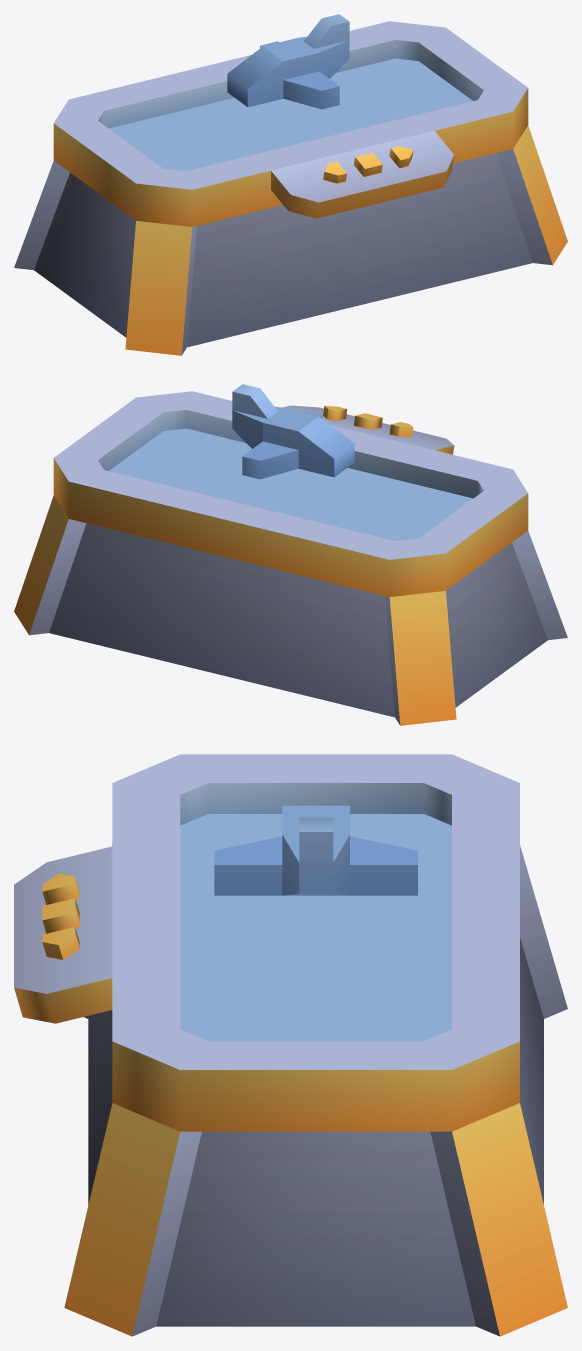
File: k-space-station-table-display.glb
The picture shows the model from 3 angles, top to bottom: view 1: azimuth 30°, elevation 25°; view 2: azimuth 150°, elevation 25°; view 3: azimuth 270°, elevation 25°; orthographic projection. The views are drawn at different scales.
Visible parts, largest first — view 1: table-display, ship; view 2: table-display, ship; view 3: table-display, ship.
Boxes of the visible parts, x1=… form: table-display: x1=14, y1=21, x2=567, y2=355; ship: x1=227, y1=14, x2=349, y2=109; table-display: x1=14, y1=391, x2=567, y2=725; ship: x1=232, y1=384, x2=354, y2=479; table-display: x1=14, y1=754, x2=567, y2=1336; ship: x1=214, y1=805, x2=417, y2=895.
Bounding box in the file's own units: 1.24 × 0.6 × 0.8155.
Materials: 1 (1 with a texture image).
